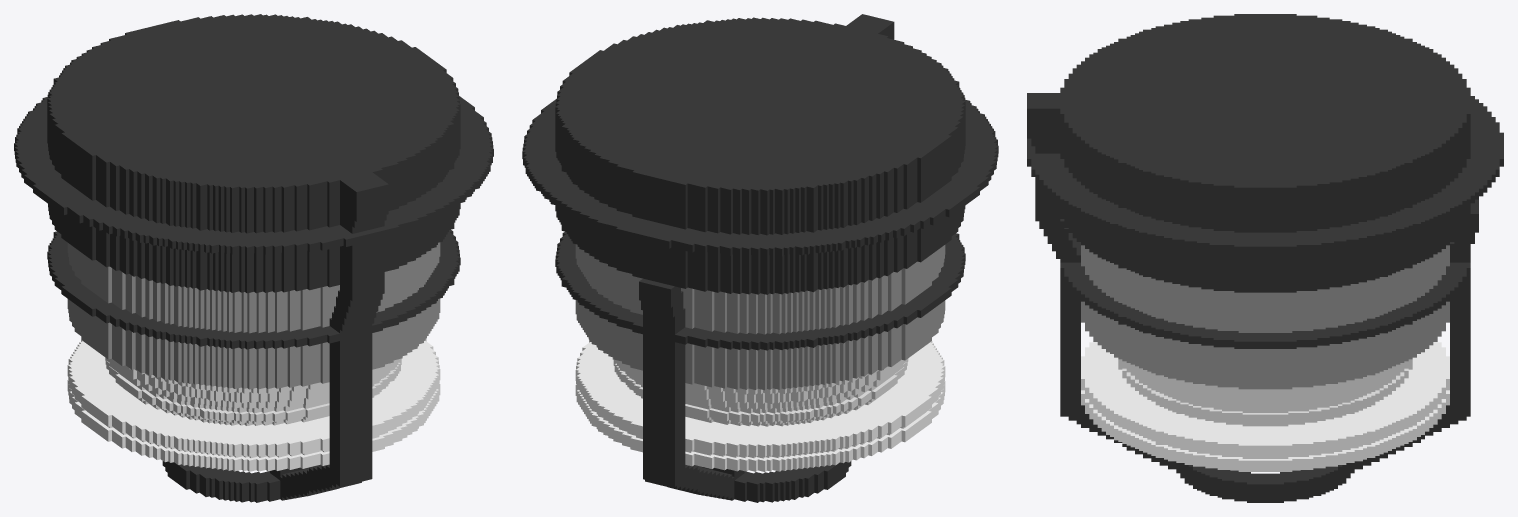
Rendered from Nuclear Pile2-1.fbx.
3 views of the same model, side by side, from view 1: azimuth 30°, elevation 25°; view 2: azimuth 150°, elevation 25°; view 3: azimuth 270°, elevation 25° (orthographic).
Visible parts, largest first — view 1: Nuclear Pile2-1.000, Nuclear Pile2-1.020, Nuclear Pile2-1.001; view 2: Nuclear Pile2-1.000, Nuclear Pile2-1.003, Nuclear Pile2-1.001, Nuclear Pile2-1.020; view 3: Nuclear Pile2-1.000, Nuclear Pile2-1.020, Nuclear Pile2-1.002, Nuclear Pile2-1.003.
Boxes of the visible parts, x1,y1,x2,y2 form: Nuclear Pile2-1.000: (14,14,493,471); Nuclear Pile2-1.020: (270,172,388,500); Nuclear Pile2-1.001: (162,461,280,502); Nuclear Pile2-1.000: (522,17,998,471); Nuclear Pile2-1.003: (639,278,744,500); Nuclear Pile2-1.001: (734,461,851,502); Nuclear Pile2-1.020: (846,14,894,39); Nuclear Pile2-1.000: (1027,14,1503,471); Nuclear Pile2-1.020: (1027,93,1180,473); Nuclear Pile2-1.002: (1180,463,1350,502); Nuclear Pile2-1.003: (1350,199,1478,473).
Size of the model in its own units: 11.5 by 9.7 by 11.5.
